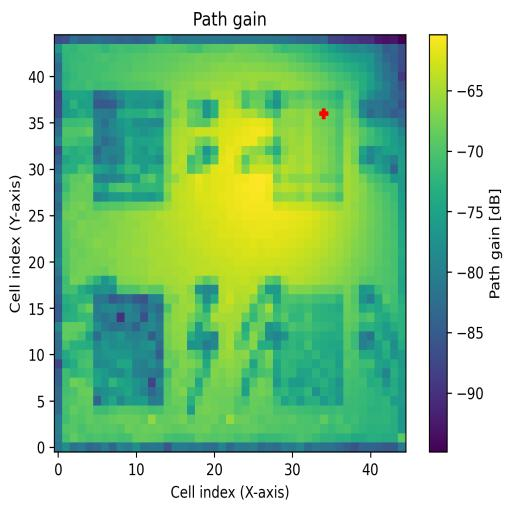Concrete: (273, 90, 343, 202)
Glass: (94, 88, 163, 201)
Metal: (274, 292, 343, 405)
Wood: (94, 294, 164, 406)
